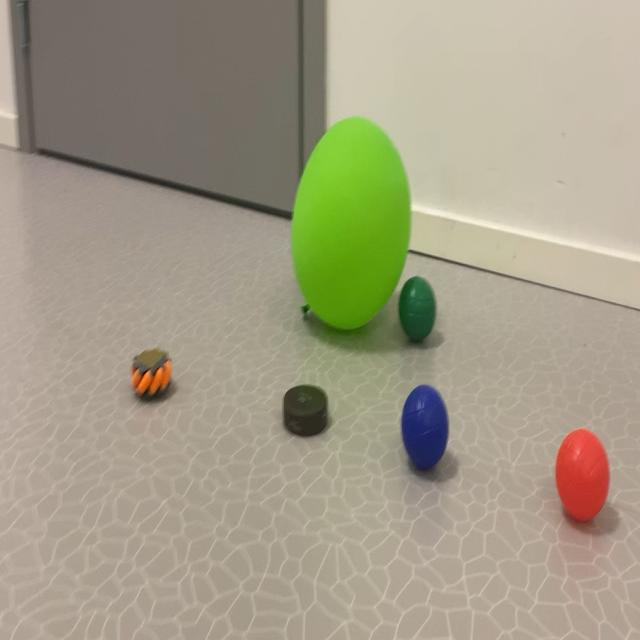7: (548, 399, 622, 566)
green ball: (391, 356, 480, 526)
red ball: (386, 246, 439, 362)
